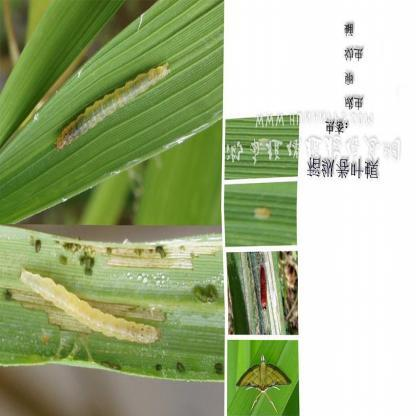leaf-folder: (17, 258, 160, 348), (52, 56, 172, 146), (253, 256, 272, 316), (253, 200, 273, 228)
